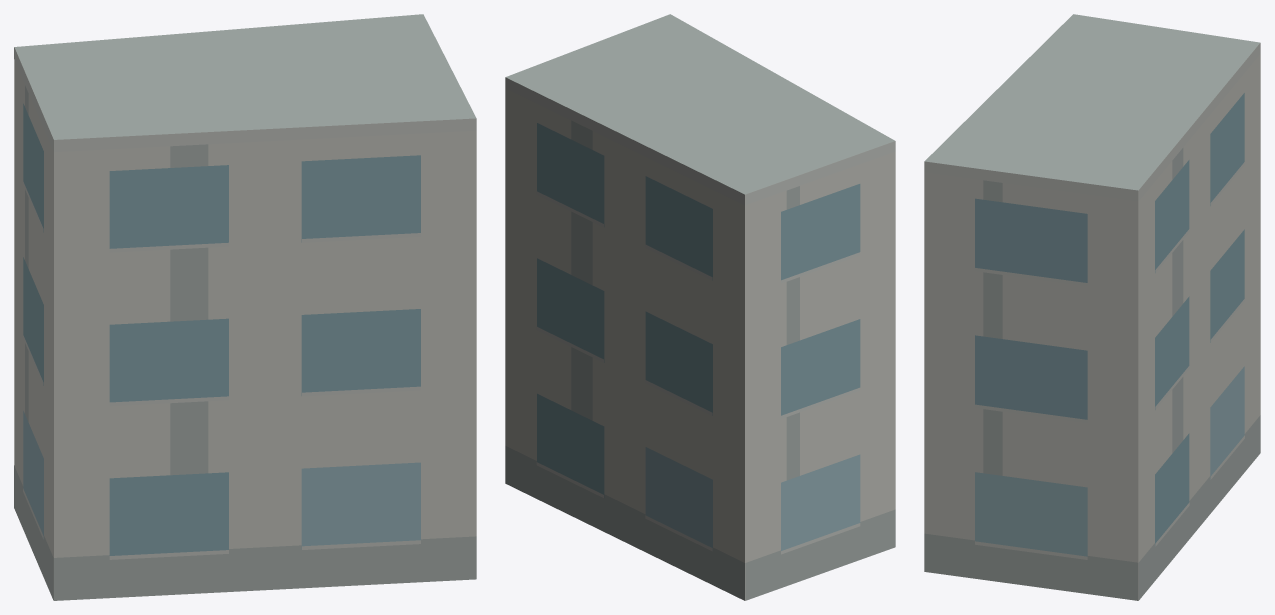
The model's file is survey-upis-32753309.glb.
3 renders of one model, left to right at view 1: azimuth 30°, elevation 25°; view 2: azimuth 150°, elevation 25°; view 3: azimuth 270°, elevation 25°, orthographic. The views are drawn at different scales.
Parts seen in each view (by area): view 1: survey-upis-32753309.tmp; view 2: survey-upis-32753309.tmp; view 3: survey-upis-32753309.tmp.
Boxes of the visible parts, x1=… form: survey-upis-32753309.tmp: x1=14, y1=14, x2=476, y2=600; survey-upis-32753309.tmp: x1=505, y1=14, x2=895, y2=600; survey-upis-32753309.tmp: x1=924, y1=14, x2=1260, y2=600.
Size of the model in its own units: 8.45 by 9.15 by 6.8.
